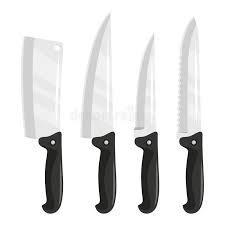Knife: (22, 35, 63, 213), (81, 11, 116, 213), (176, 15, 204, 213), (133, 31, 159, 213)
